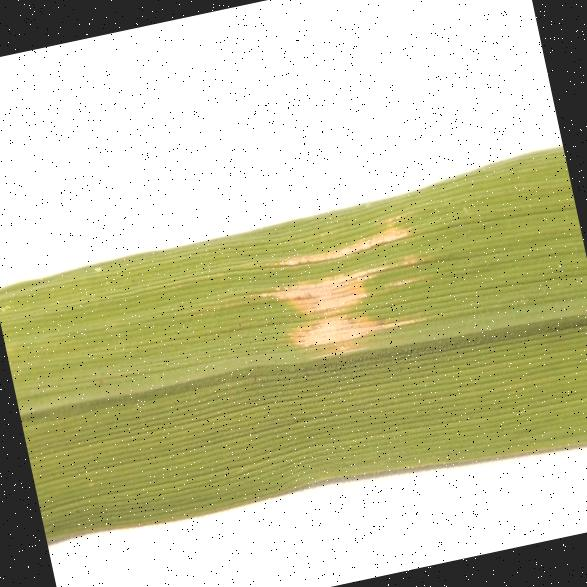Bacteria_Leaf_Blight: (218, 177, 463, 413)
